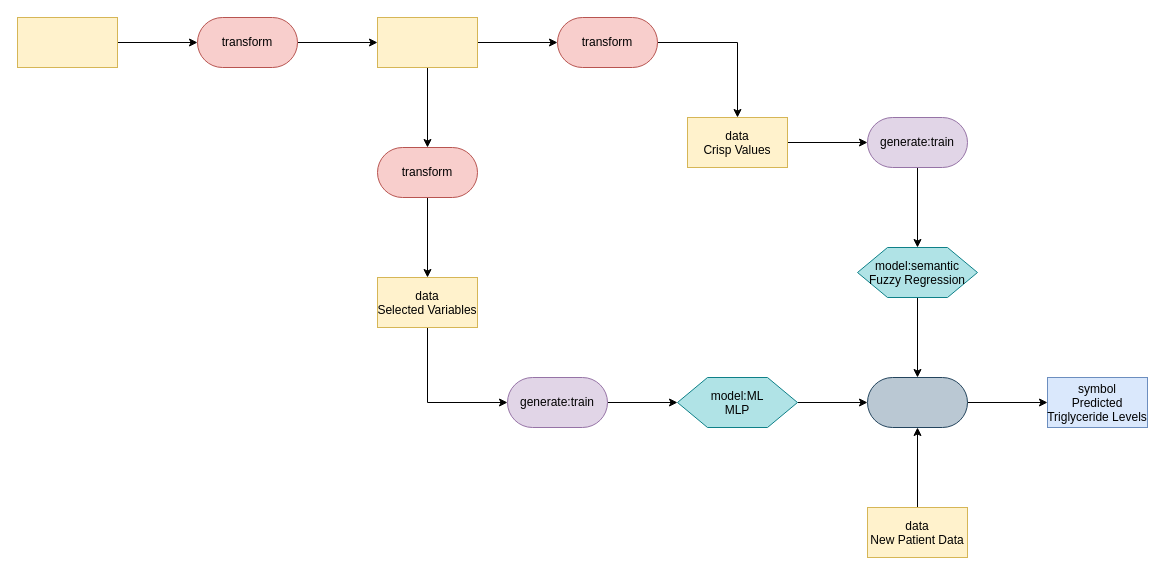
This 1165x575 diagram has some shape labels left out. Here are the shapes that lost their labels. From the top down, the centre of each, then its label:
At point 67,42: "data Raw Patient Data".
At point 427,42: "data Processed Data".
At point 917,402: "infer:predict".
